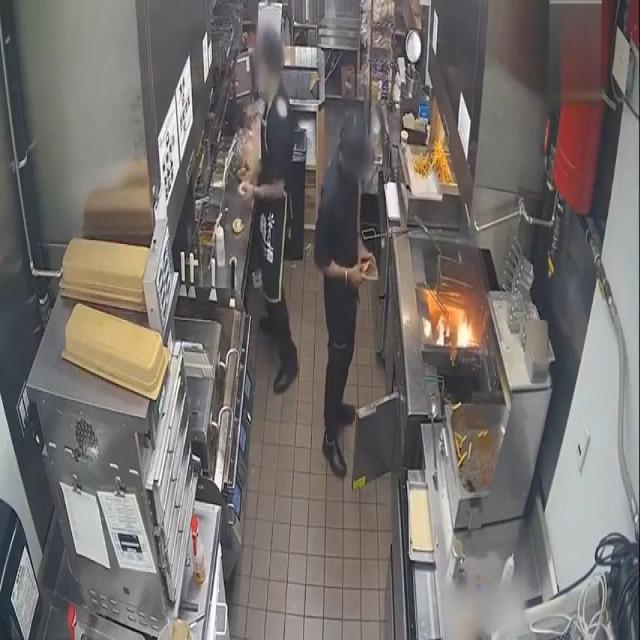smoke: (454, 310, 478, 350), (434, 310, 452, 344)
